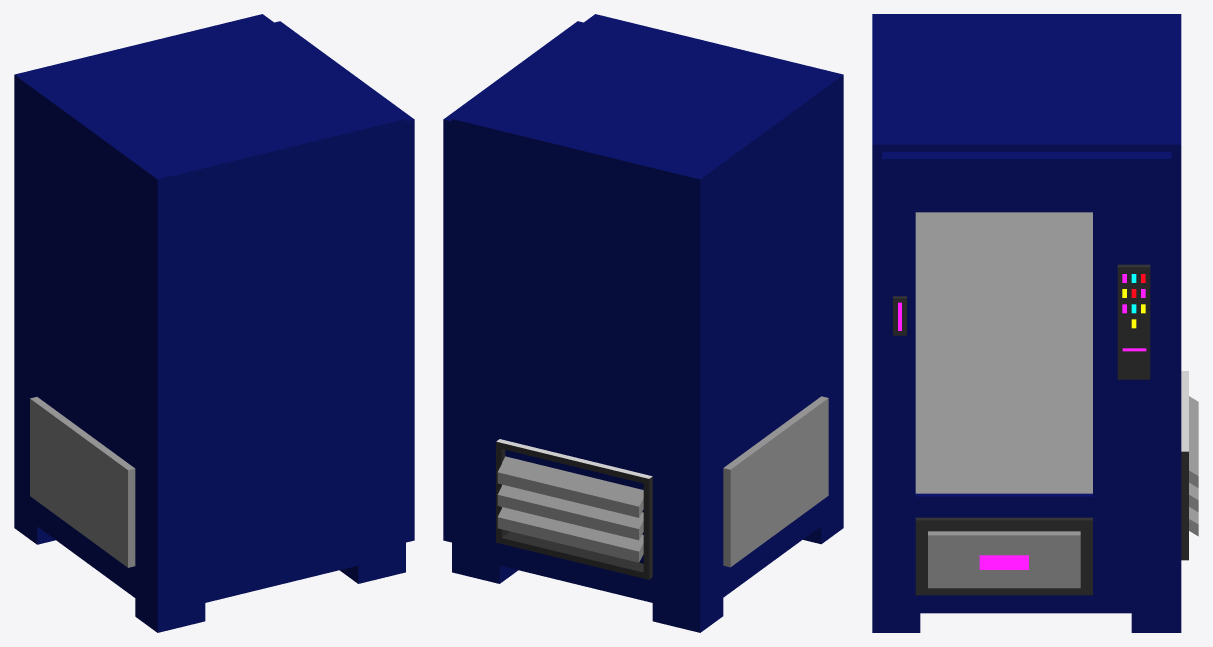
The model's file is vendingmachineeeeeee.fbx.
The picture shows the model from 3 angles, left to right: view 1: azimuth 30°, elevation 25°; view 2: azimuth 150°, elevation 25°; view 3: azimuth 270°, elevation 25°; orthographic projection. The views are drawn at different scales.
Parts seen in each view (by area): view 1: Cube; view 2: Cube; view 3: Cube.
Boxes of the visible parts, <box> form: Cube: <box>14,14,414,632</box>; Cube: <box>443,14,843,632</box>; Cube: <box>872,14,1198,632</box>.
Bounding box in the file's own units: 1077 × 1638 × 992.
